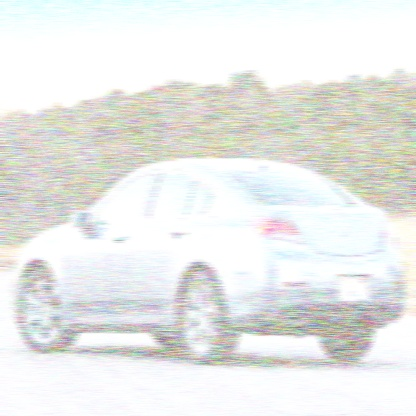Vehicle: (10, 156, 406, 365)
